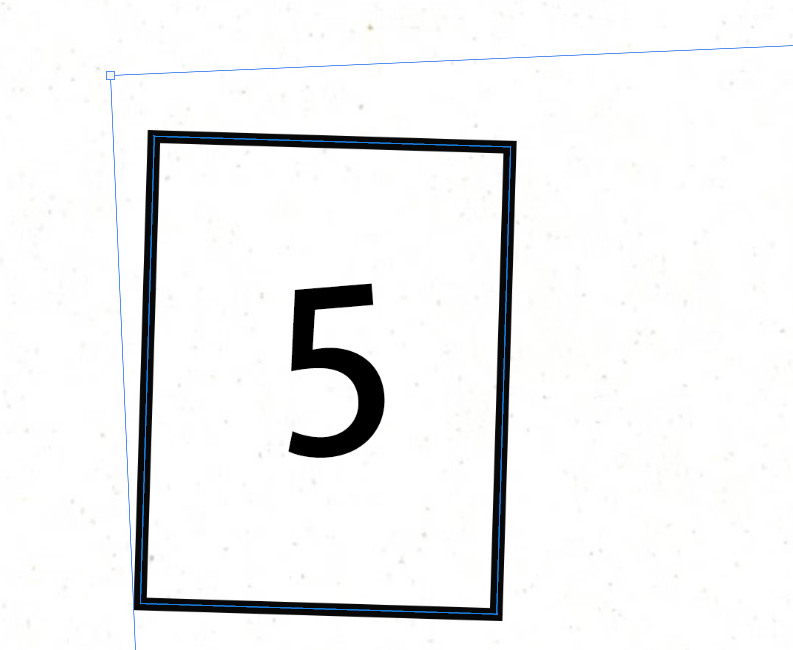five: (226, 233, 450, 519)
